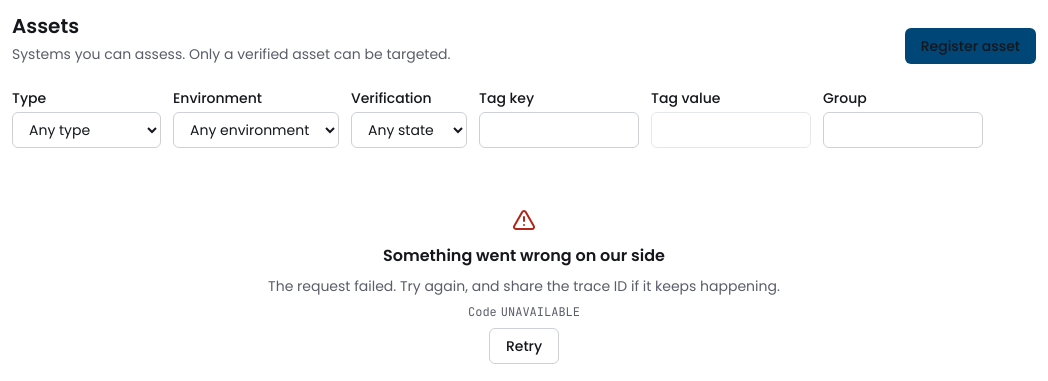
Test: AssetsView › shows a retry state for a failed read, and retries it
This screenshot has width=1048, height=381.
Click the button "Retry": (524, 346) [489, 328, 559, 364]
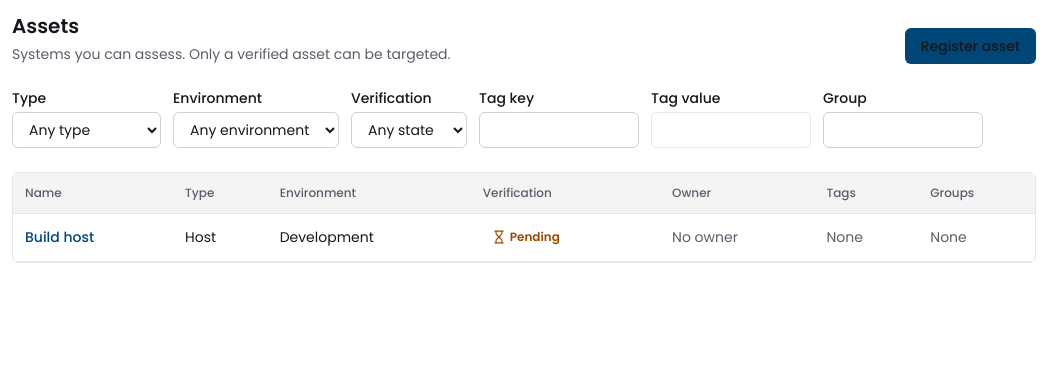
Check: the link "Build host" is shown, box [25, 227, 94, 247]
